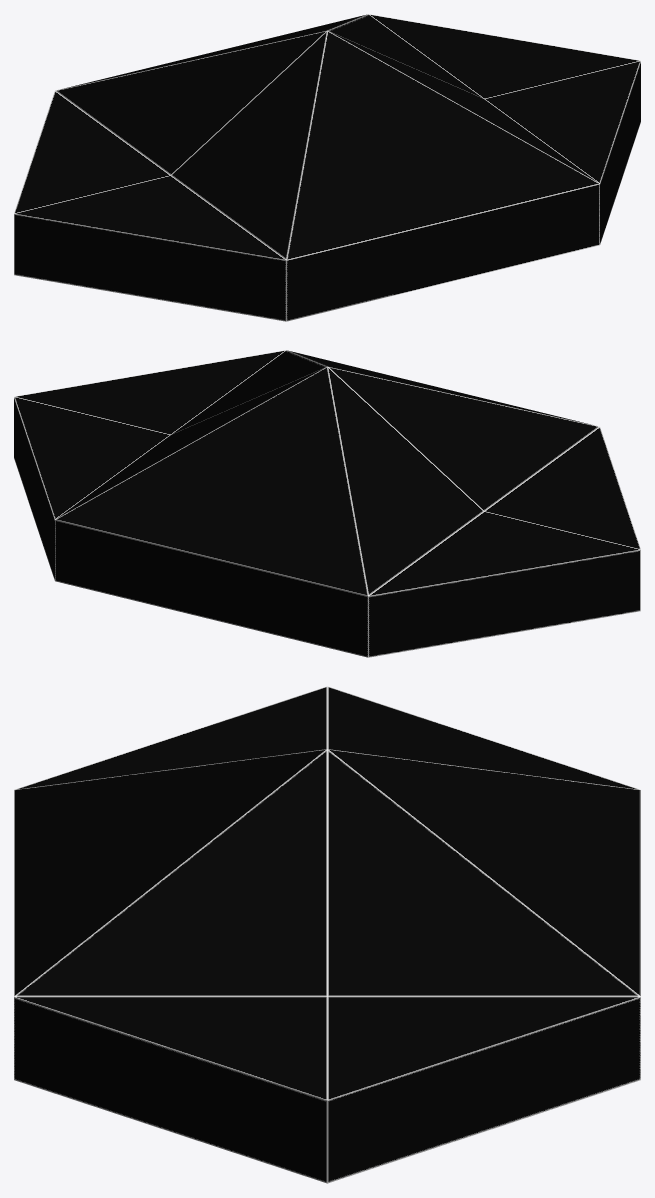
3 views of the same model, one above another, from view 1: azimuth 30°, elevation 25°; view 2: azimuth 150°, elevation 25°; view 3: azimuth 270°, elevation 25° (orthographic). The views are drawn at different scales.
Parts seen in each view (by area): view 1: DD_01; view 2: DD_01; view 3: DD_01.
Boxes of the visible parts, bbox=[...] form: DD_01: bbox=[14, 14, 640, 321]; DD_01: bbox=[14, 350, 640, 657]; DD_01: bbox=[14, 686, 640, 1183].
Bounding box in the file's own units: 2707 × 694 × 1732.
Materials: 1 (1 with a texture image).
